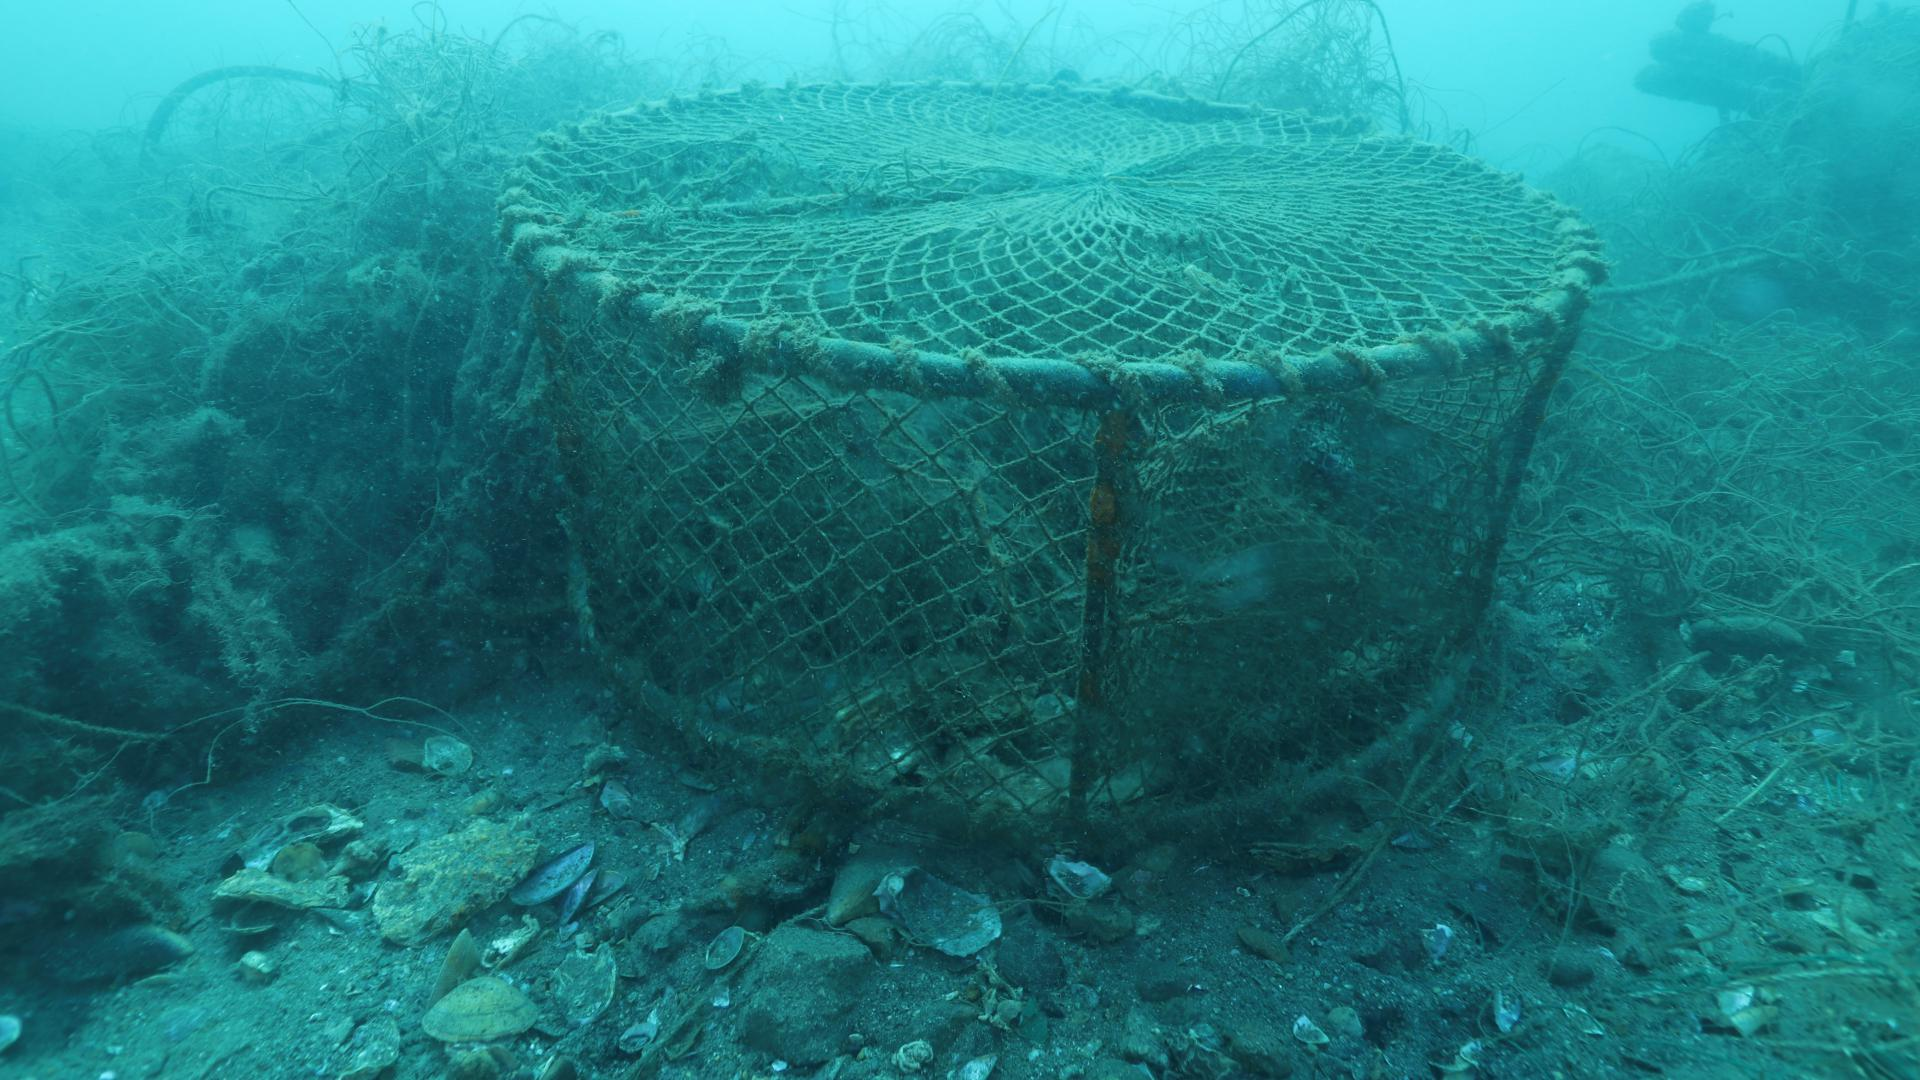circular fish trap: (495, 76, 1606, 851)
